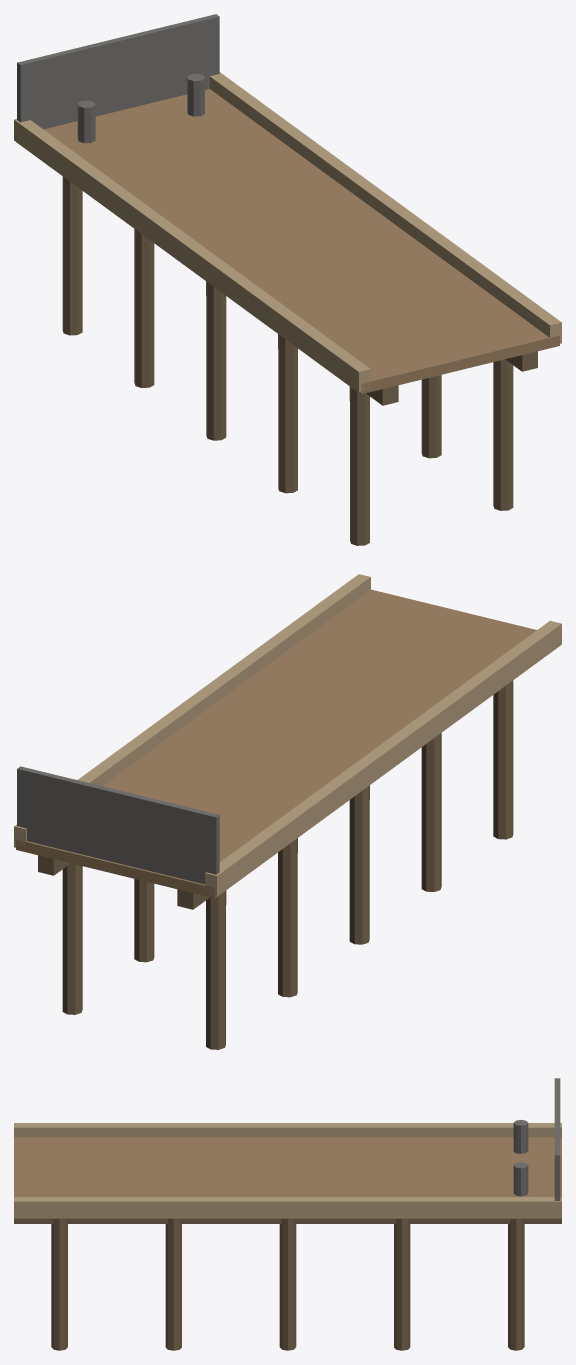
Rendered from env_pier.glb.
3 views of the same model, one above another, from view 1: azimuth 30°, elevation 25°; view 2: azimuth 150°, elevation 25°; view 3: azimuth 270°, elevation 25° (orthographic). The views are drawn at different scales.
Parts seen in each view (by area): view 1: env_pier; view 2: env_pier; view 3: env_pier.
Boxes of the visible parts, x1,y1,x2,y2 form: env_pier: [14, 14, 561, 545]; env_pier: [14, 574, 561, 1049]; env_pier: [14, 1078, 561, 1350].
Bounding box in the file's own units: 2.04 × 2.45 × 6.
